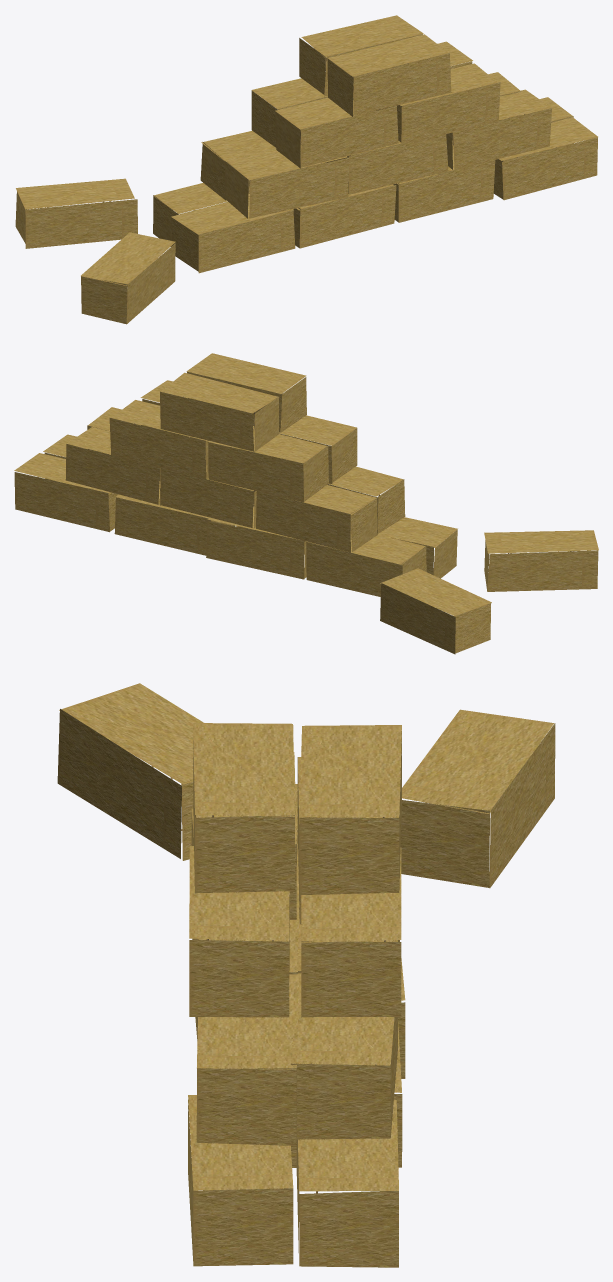
The model's file is pacas.glb.
3 renders of one model, top to bottom at view 1: azimuth 30°, elevation 25°; view 2: azimuth 150°, elevation 25°; view 3: azimuth 270°, elevation 25°, orthographic. The views are drawn at different scales.
Bounding box in the file's own units: 5.78 × 1.65 × 2.39.
Materials: 2 (1 with a texture image).
